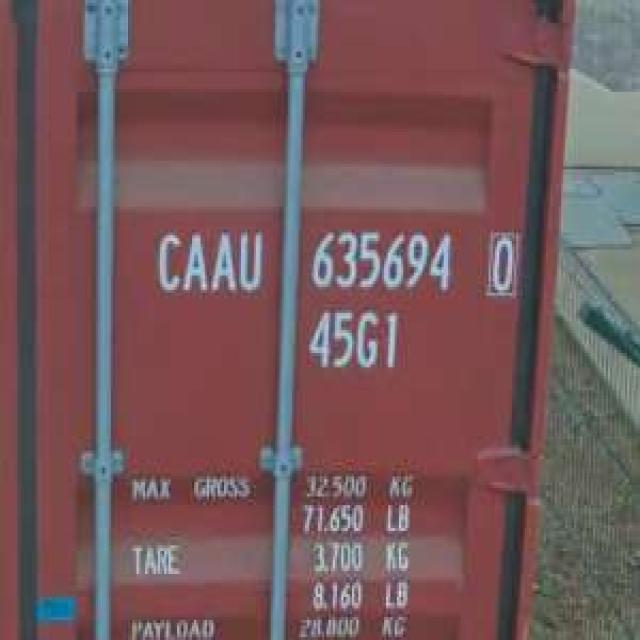dv: (481, 223, 526, 305)
owner: (144, 220, 270, 303)
serial: (300, 222, 460, 299)
size: (300, 301, 408, 377)
